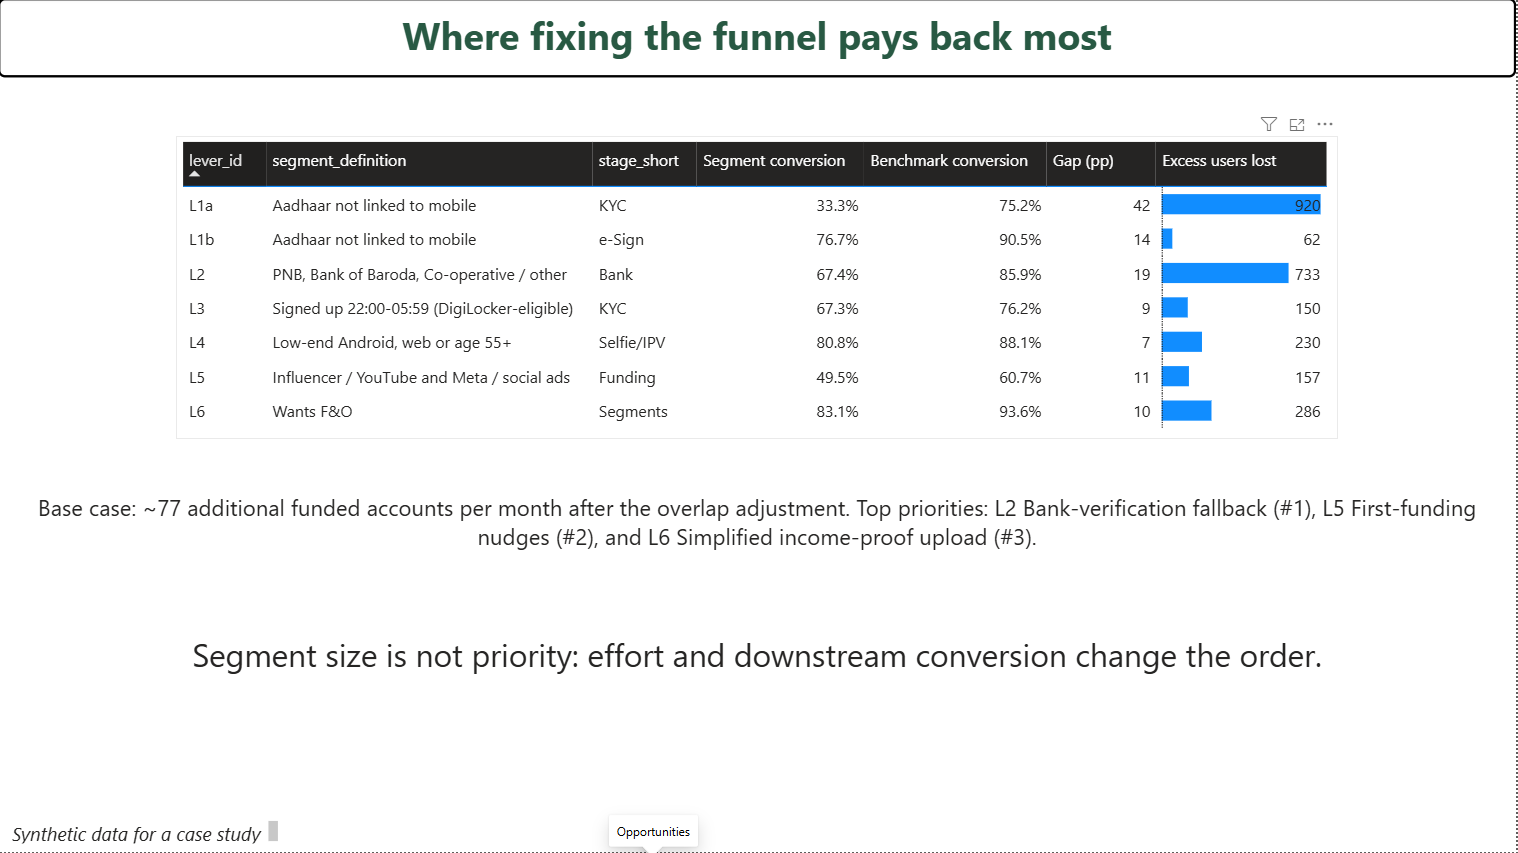

This screenshot's page, from the dashboard's own definition file:
{"tool":"powerbi","page":{"name":"Opportunities","canvas":[1280,720],"ordinal":4},"visuals":[{"type":"textbox","box":[0,0,1280,66.7],"z":0},{"type":"tableEx","fields":{"Values":["lever_sizing.lever_id","lever_sizing.segment_definition","lever_sizing.stage_short","Avg(lever_sizing.seg_conv)","Avg(lever_sizing.rest_conv)","Avg(lever_sizing.gap_pp)","lever_sizing.excess_lost_vs_rest"]},"box":[150,116.7,980,255.6],"z":1000},{"type":"textbox","box":[0,530,1280,71.2],"z":2000},{"type":"textbox","box":[0,411.2,1280,60],"z":3000},{"type":"textbox","box":[0,688.9,241.1,28.9],"z":3001}]}

Visuals, with their boxes on the page's 1280x720 design canvas (x1, y1, x2, y2). These are canvas units, not pixel positions in the 1518x853 screenshot, which may show the page scaled, cropped or inside an application window:
textbox: bbox=[0, 0, 1280, 67]
tableEx - lever_sizing.lever_id x lever_sizing.segment_definition: bbox=[150, 117, 1130, 372]
textbox: bbox=[0, 530, 1280, 601]
textbox: bbox=[0, 411, 1280, 471]
textbox: bbox=[0, 689, 241, 718]
